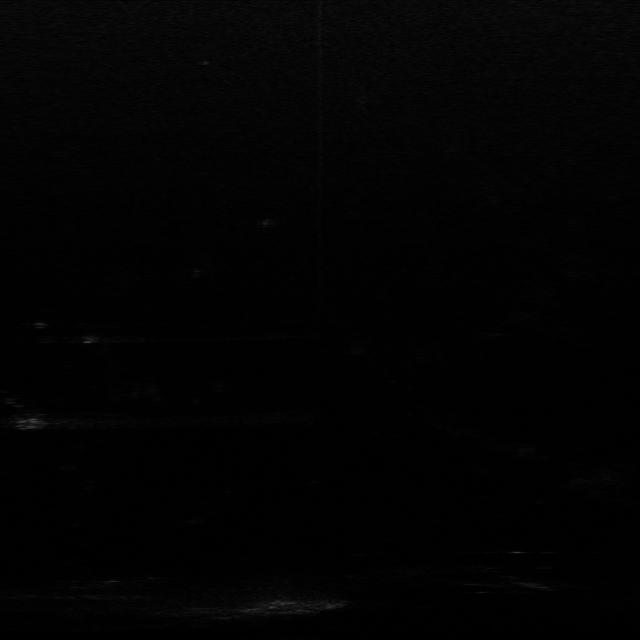rov: (10, 414, 46, 432)
